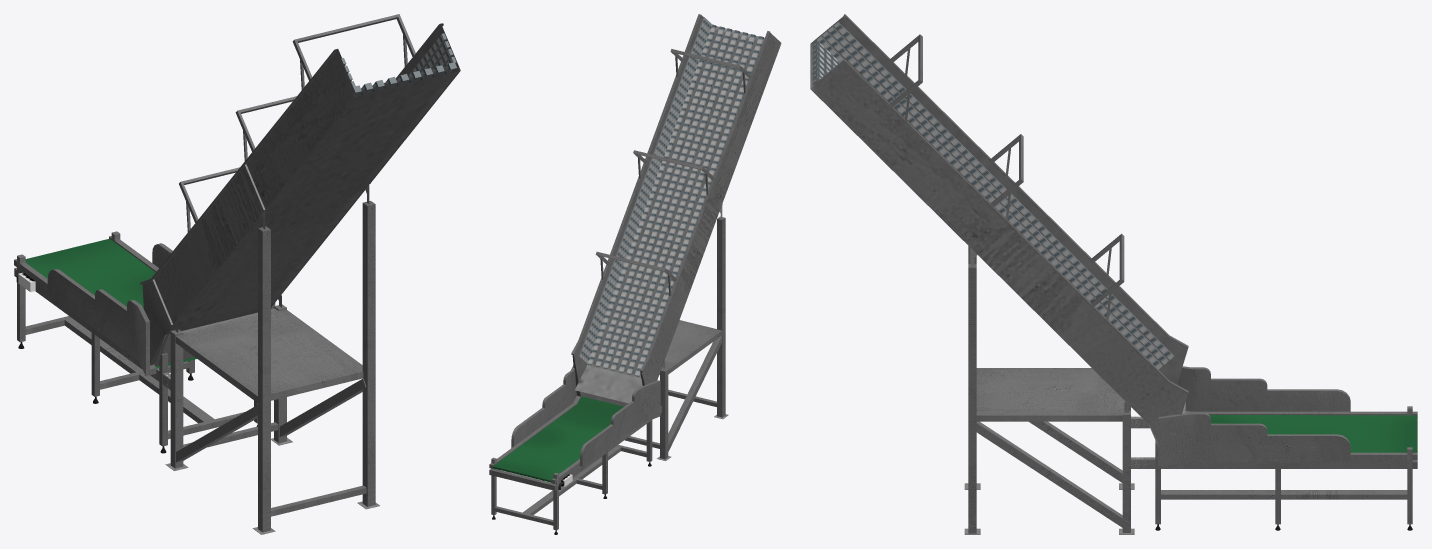
Rendered from zuoqi01.FBX.
3 views of the same model, side by side, from view 1: azimuth 30°, elevation 25°; view 2: azimuth 150°, elevation 25°; view 3: azimuth 270°, elevation 25° (orthographic). The views are drawn at different scales.
Visible parts, largest first — view 1: YF_Moder_zuoqi01; view 2: YF_Moder_zuoqi01; view 3: YF_Moder_zuoqi01.
Boxes of the visible parts, box(x1,y1,x2,y2) form: YF_Moder_zuoqi01: box(14, 14, 460, 534); YF_Moder_zuoqi01: box(489, 14, 781, 534); YF_Moder_zuoqi01: box(810, 14, 1417, 534).
Bounding box in the file's own units: 144 × 566 × 661.
Materials: 1 (1 with a texture image).
